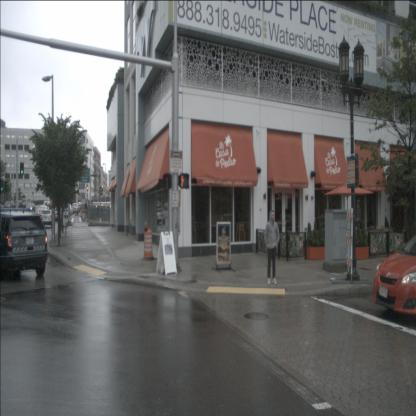human-pedestrian-adult: (264, 209, 280, 286)
movable_object-trafficcone: (140, 228, 156, 261)
vehicle-car: (371, 233, 416, 324), (0, 210, 49, 280), (148, 200, 166, 226), (41, 209, 55, 228), (52, 206, 65, 222), (2, 200, 15, 211), (26, 202, 36, 214), (64, 204, 74, 216), (38, 206, 49, 216), (71, 203, 81, 213), (14, 200, 24, 210), (21, 201, 30, 209), (43, 198, 52, 206)
